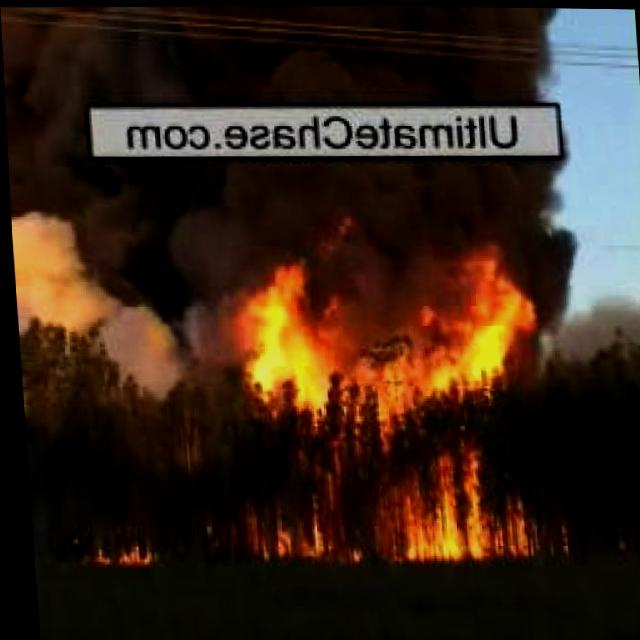Fire: (232, 249, 528, 564), (78, 537, 152, 562)
Smoke: (6, 148, 566, 266), (0, 0, 564, 106)
